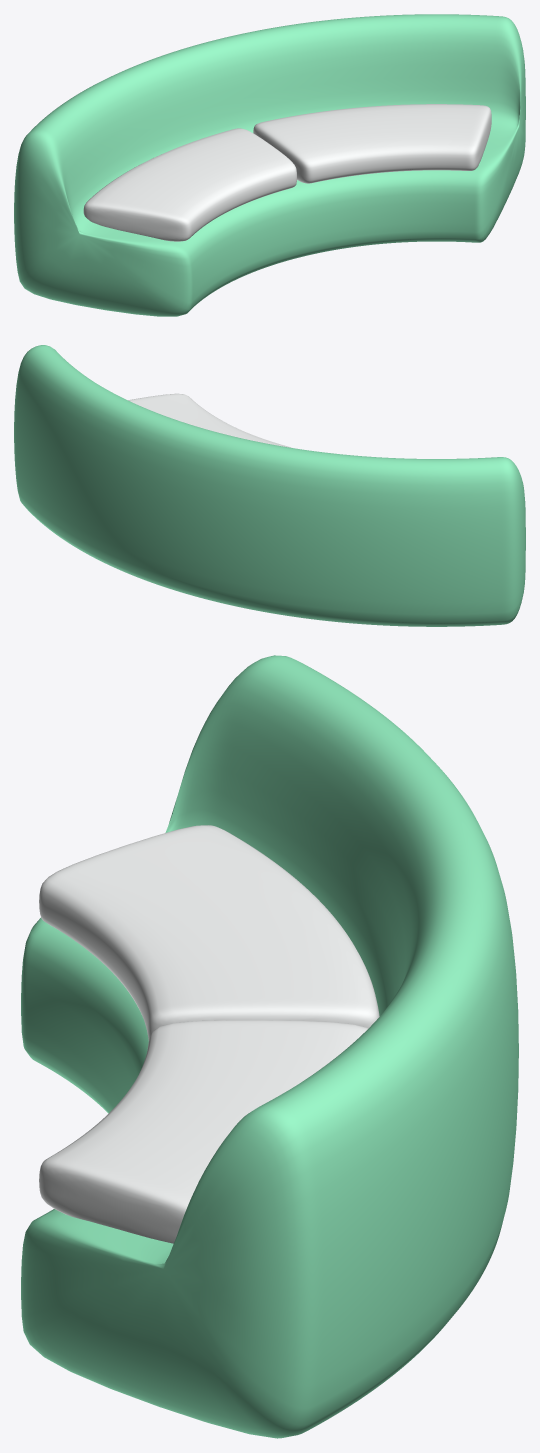
File: curved_sofa.glb
3 renders of one model, top to bottom at view 1: azimuth 30°, elevation 25°; view 2: azimuth 150°, elevation 25°; view 3: azimuth 270°, elevation 25°, orthographic. The views are drawn at different scales.
Visible parts, largest first — view 1: CurvedSofa; view 2: CurvedSofa; view 3: CurvedSofa.
Boxes of the visible parts, x1,y1,x2,y2 form: CurvedSofa: (14, 14, 525, 316); CurvedSofa: (14, 345, 525, 626); CurvedSofa: (21, 655, 518, 1438).
Size of the model in its own units: 2.48 by 0.7929 by 1.06.
